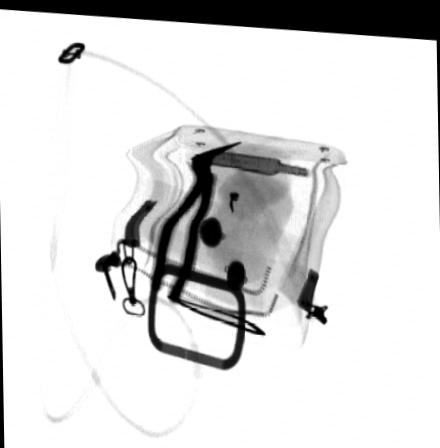Pliers: (149, 133, 243, 302)
